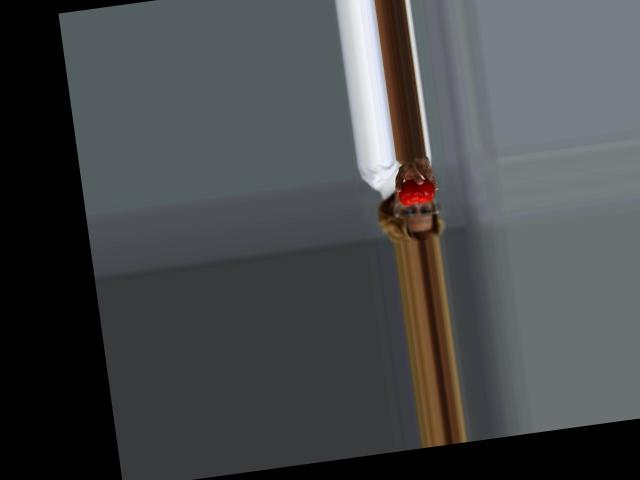tomato: (395, 176, 434, 205)
